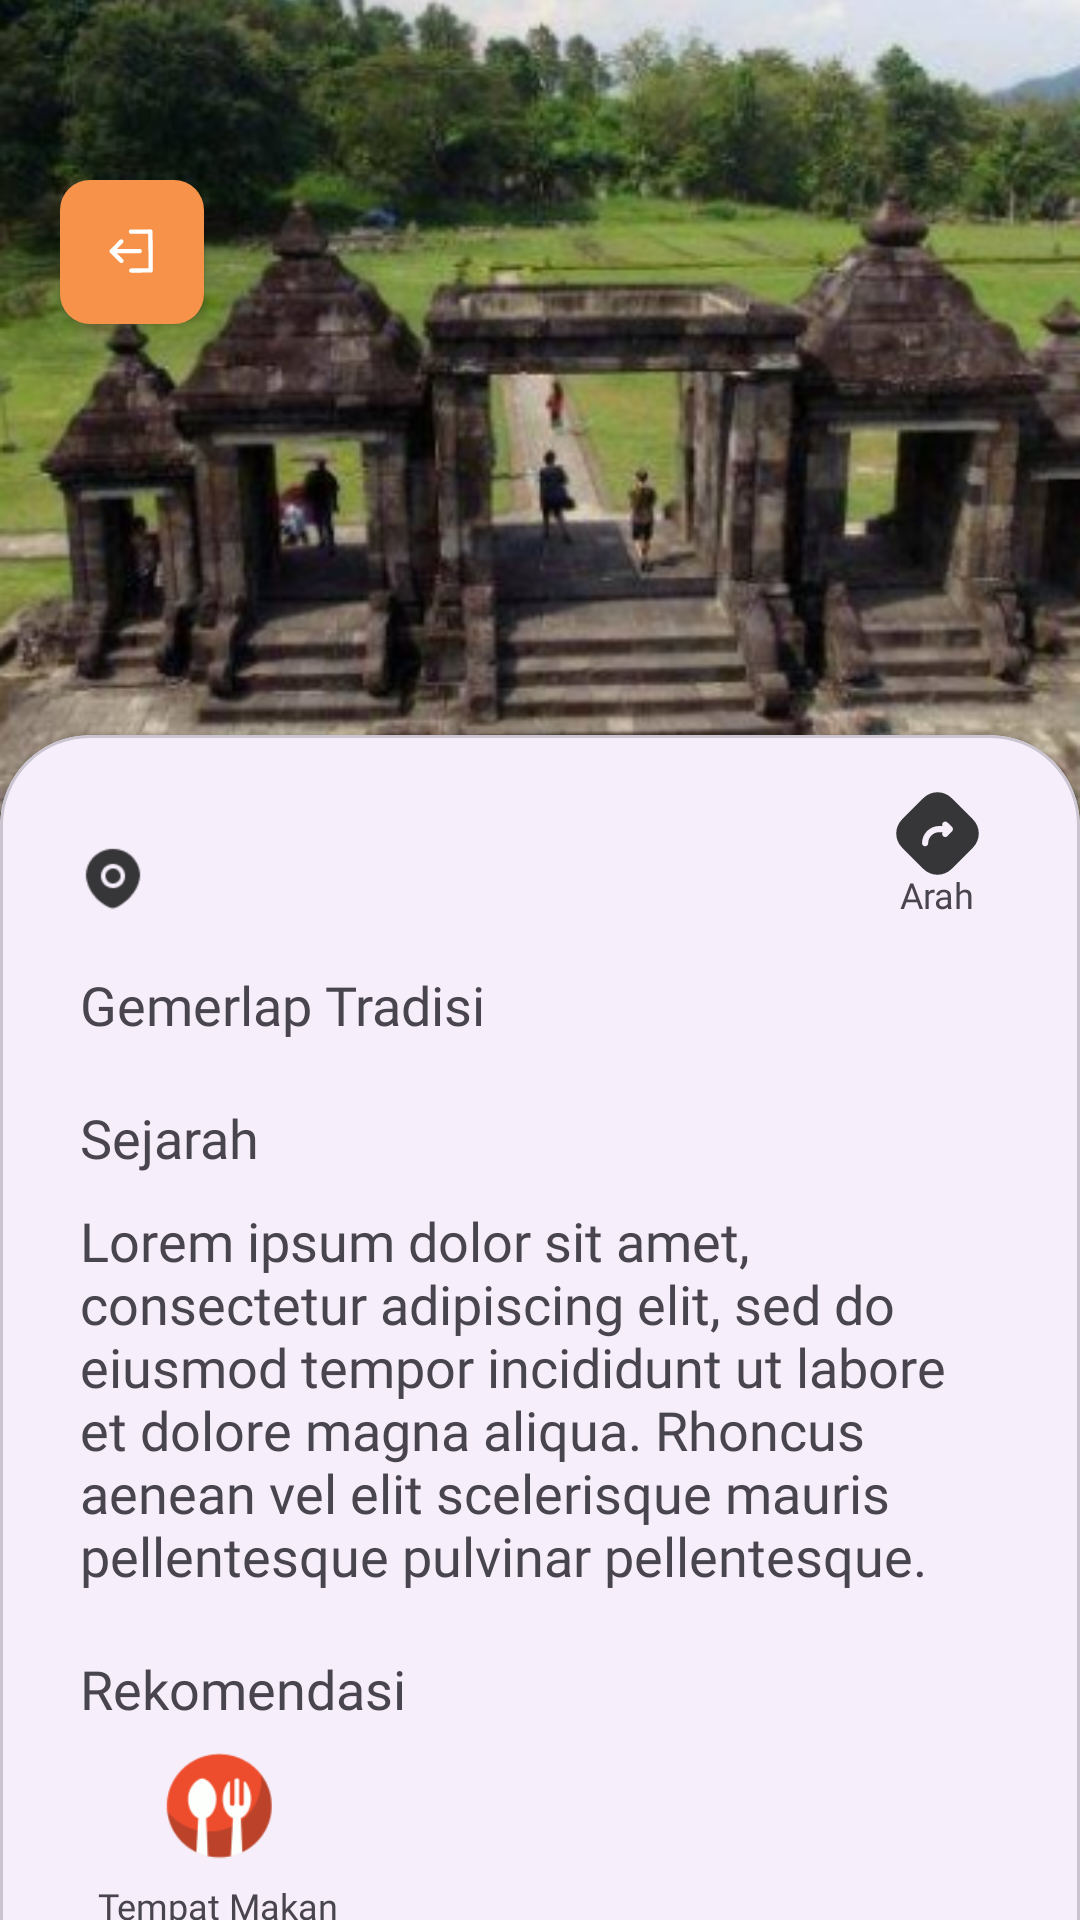

Screen size 1080px×1920px. Icon name, then its center in pixels as (x=x, y=y):
back: (x=132, y=252)
location: (x=113, y=878)
